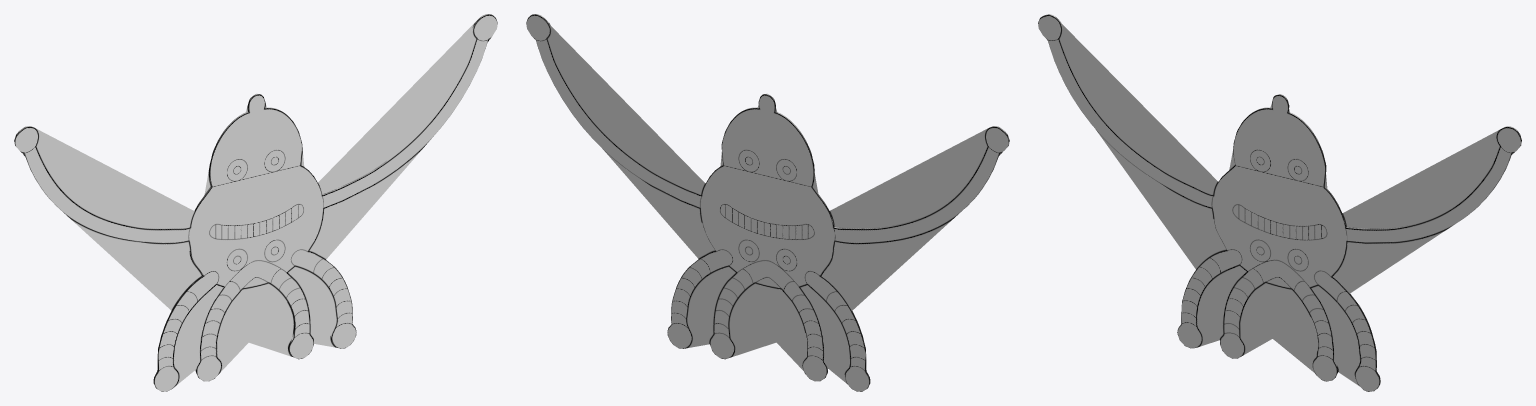
Rendered from 11_kaeryoong.fbx.
3 views of the same model, side by side, from view 1: azimuth 30°, elevation 25°; view 2: azimuth 150°, elevation 25°; view 3: azimuth 330°, elevation 25° (orthographic).
Parts seen in each view (by area): view 1: planarTrimmedSurface31; view 2: planarTrimmedSurface31; view 3: planarTrimmedSurface31.
Boxes of the visible parts, x1,y1,x2,y2 form: planarTrimmedSurface31: [14, 14, 497, 391]; planarTrimmedSurface31: [526, 14, 1009, 391]; planarTrimmedSurface31: [1038, 14, 1521, 391].
Bounding box in the file's own units: 44.99 × 26.65 × 0.1278.
1 material, 1 textured.
